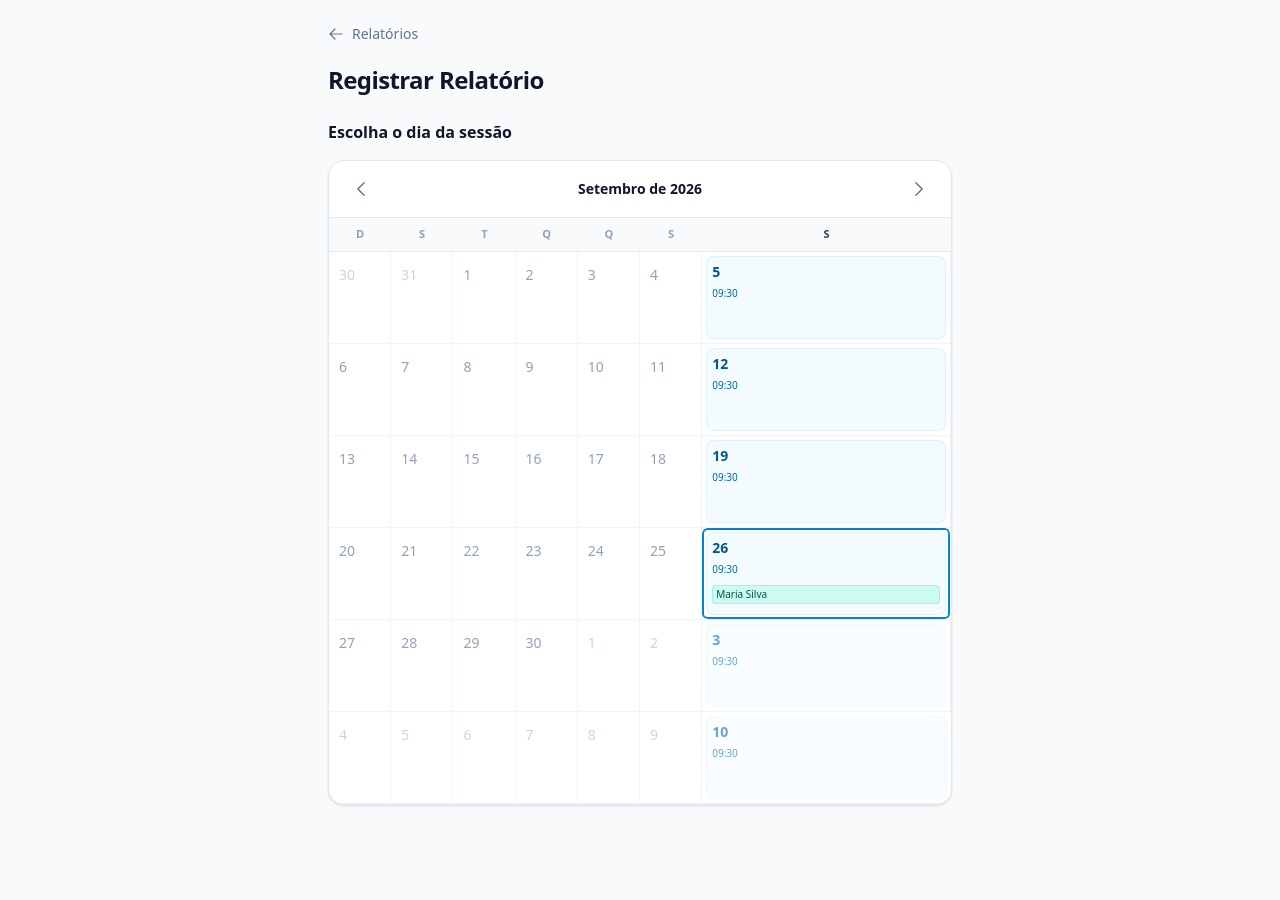
Scenario: report calendar dates › loads today's sessions even when their time has passed
The image size is (1280, 900).
Click the button "26 09:30 Maria Silva" at coordinates (826, 573), box [706, 532, 946, 614]
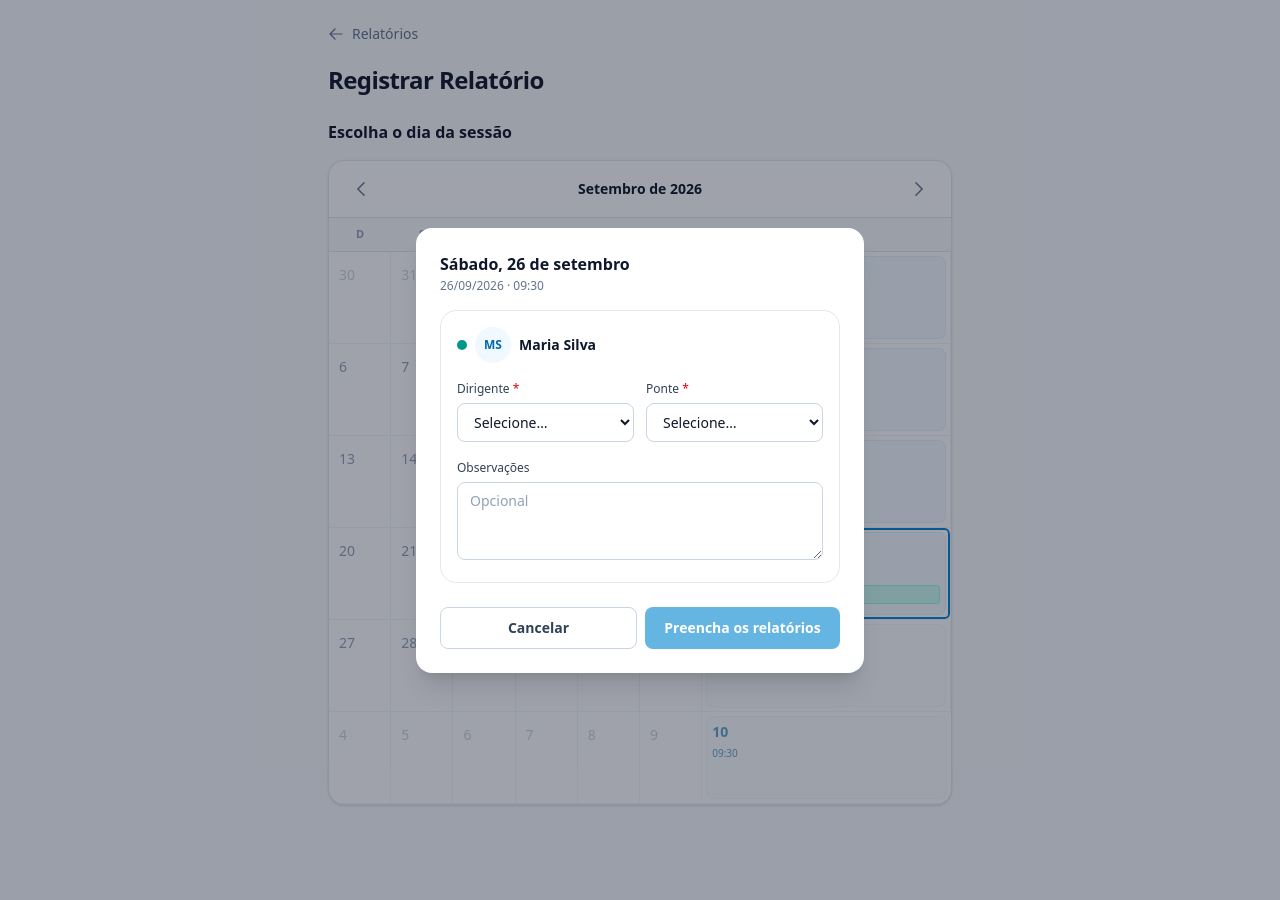
Result: the text "26/09/2026 · 09:30" is shown at [440, 276, 544, 294]
